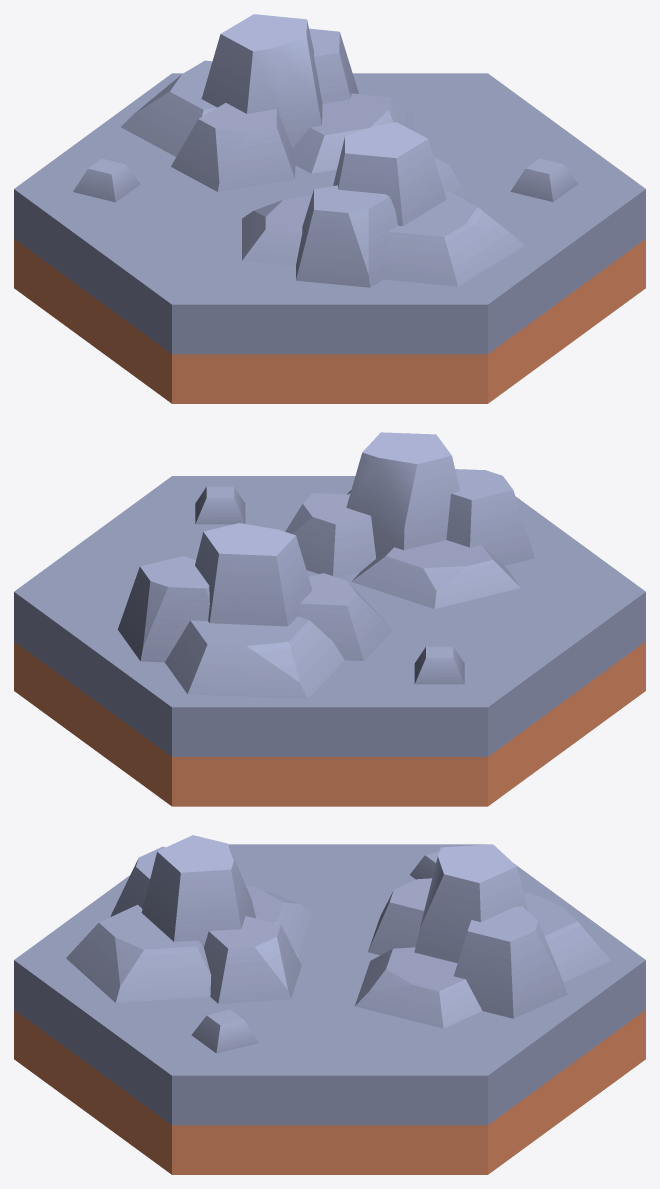
File: stone-rocks.gltf
The picture shows the model from 3 angles, top to bottom: view 1: azimuth 30°, elevation 25°; view 2: azimuth 150°, elevation 25°; view 3: azimuth 270°, elevation 25°; orthographic projection.
Visible parts, largest first — view 1: stone_rocks; view 2: stone_rocks; view 3: stone_rocks.
Part boxes in pixels (<box>): stone_rocks: <box>14,14,645,403</box>; stone_rocks: <box>14,432,645,806</box>; stone_rocks: <box>14,835,645,1174</box>.
Size of the model in its own units: 1 by 0.4061 by 1.15.
1 material, 1 textured.
